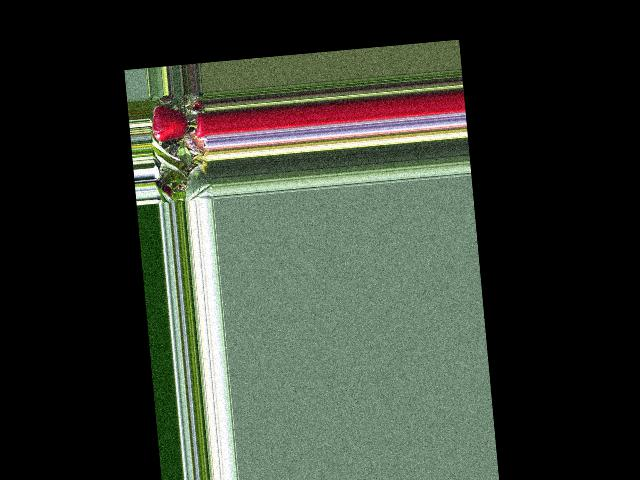bell_pepper: (191, 111, 208, 140)
